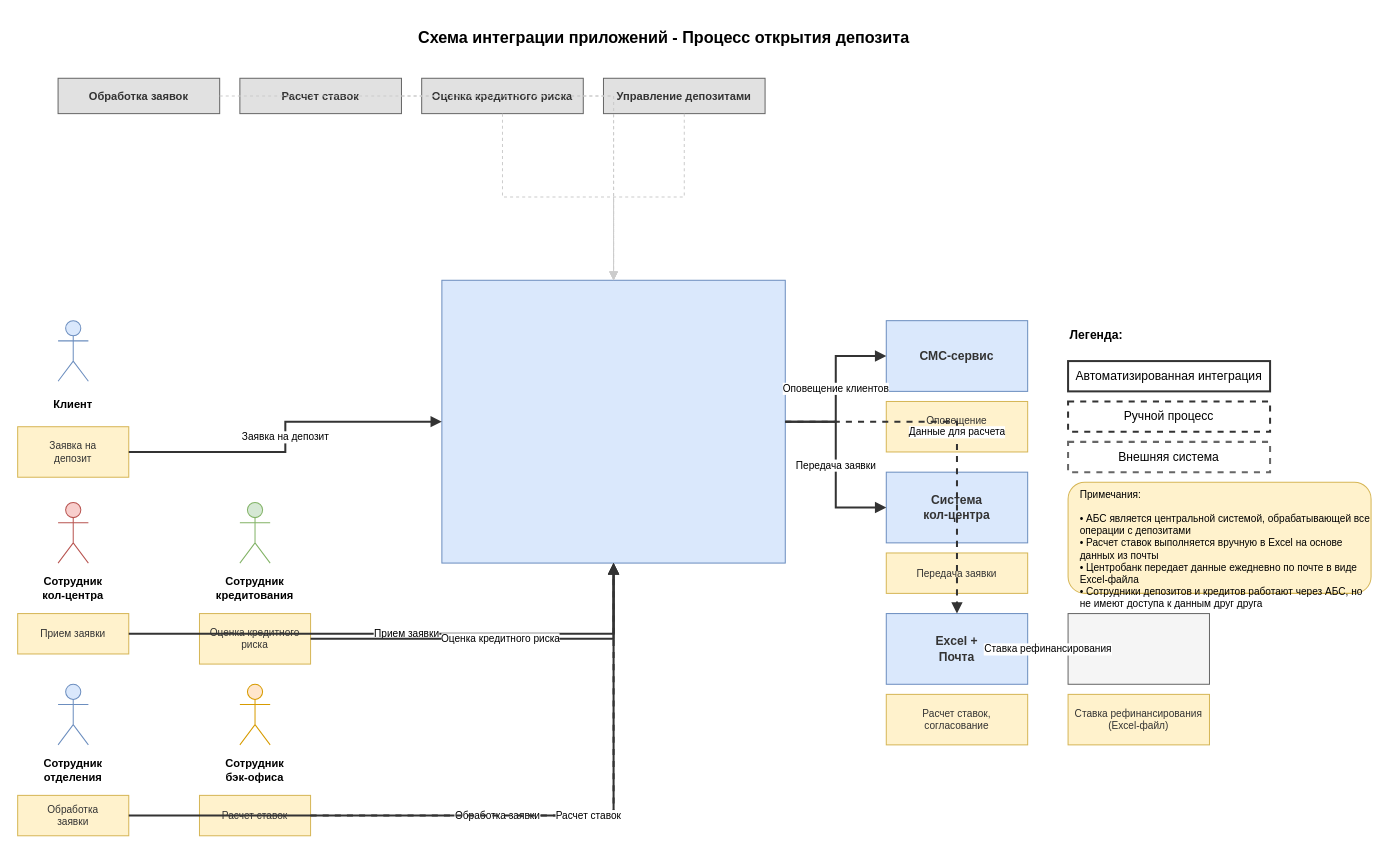
Image size: 1389x853. Some labels were removed from this diagram. Here are the shapes that lost their labels. From the top down, the centre of each, then its label:
(x=613, y=421): АБС (Автоматизированная Банковская Система)
(x=1138, y=648): Центробанк
